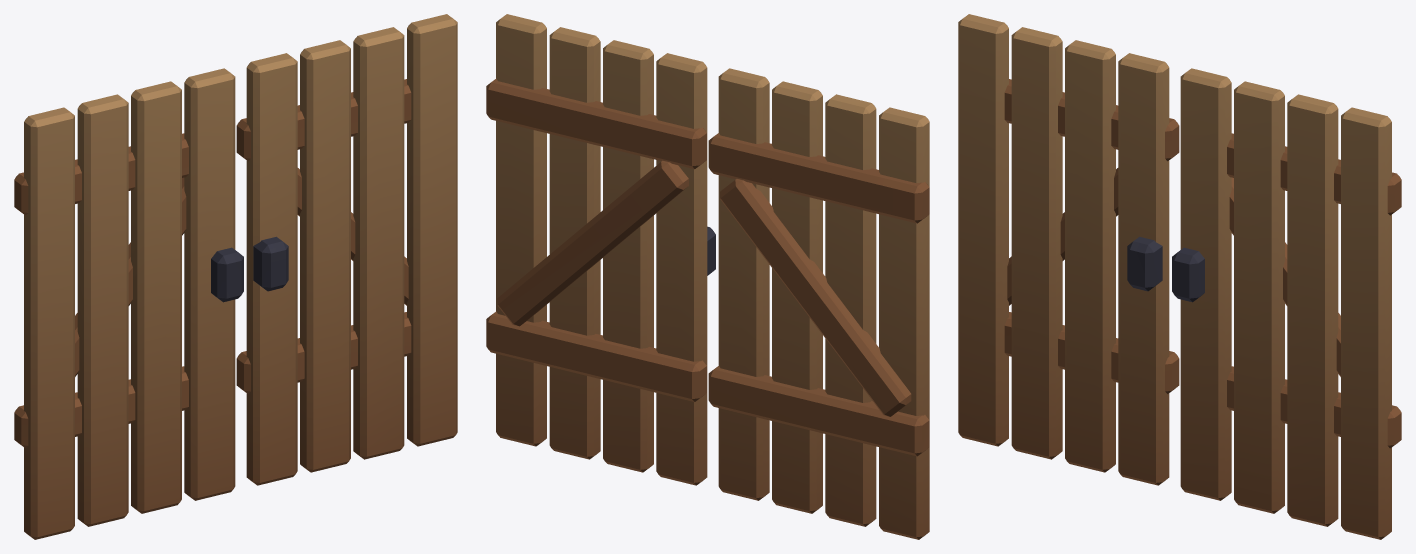
File: gate.glb
3 renders of one model, left to right at view 1: azimuth 30°, elevation 25°; view 2: azimuth 150°, elevation 25°; view 3: azimuth 330°, elevation 25°, orthographic.
Parts seen in each view (by area): view 1: LeafLMesh, LeafRMesh; view 2: LeafRMesh, LeafLMesh; view 3: LeafRMesh, LeafLMesh.
Boxes of the visible parts, bbox=[...] form: LeafLMesh: bbox=[14, 68, 243, 539]; LeafRMesh: bbox=[236, 14, 457, 485]; LeafRMesh: bbox=[486, 14, 715, 485]; LeafLMesh: bbox=[708, 68, 929, 539]; LeafRMesh: bbox=[1172, 68, 1401, 539]; LeafLMesh: bbox=[958, 14, 1179, 485].
Bounding box in the file's own units: 0.98 × 0.9 × 0.115.
